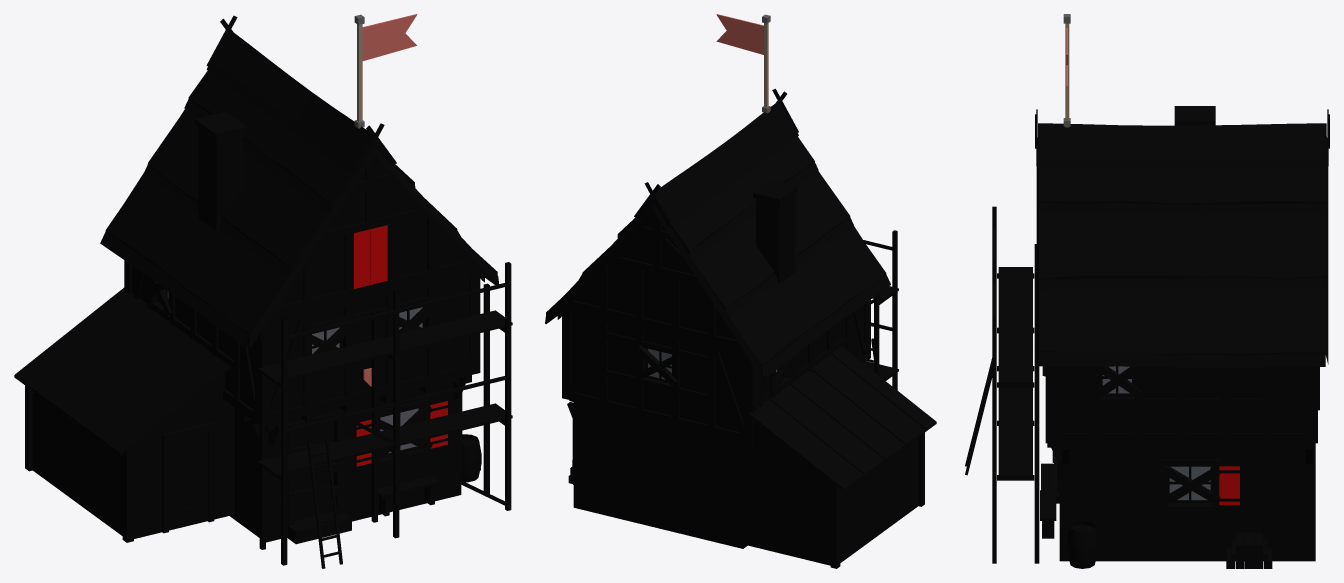
File: wohnhaus_mensch_s1_g3.glb
The picture shows the model from 3 angles, left to right: view 1: azimuth 30°, elevation 25°; view 2: azimuth 150°, elevation 25°; view 3: azimuth 270°, elevation 25°; orthographic projection. The views are drawn at different scales.
Visible parts, largest first — view 1: Haus, Dach, Geruest, Leerstand, Fahne, Scheiben; view 2: Haus, Dach, Geruest, Fahne, Leerstand; view 3: Dach, Haus, Geruest, Leerstand, Scheiben, Fahne.
Boxes of the visible parts, <box> form: Haus: <box>14,111,481,544</box>; Dach: <box>100,15,498,347</box>; Geruest: <box>258,262,512,568</box>; Leerstand: <box>144,277,437,501</box>; Fahne: <box>354,14,417,128</box>; Scheiben: <box>164,290,422,453</box>; Haus: <box>562,180,936,568</box>; Dach: <box>545,88,890,376</box>; Geruest: <box>863,230,898,390</box>; Fahne: <box>716,14,770,113</box>; Leerstand: <box>635,345,796,388</box>; Dach: <box>1035,109,1329,367</box>; Haus: <box>1040,106,1319,568</box>; Geruest: <box>965,206,1039,563</box>; Leerstand: <box>1042,366,1220,507</box>; Scheiben: <box>1102,366,1210,500</box>; Fahne: <box>1063,14,1070,127</box>.
Bounding box in the file's own units: 7.84 × 10.74 × 7.12.
